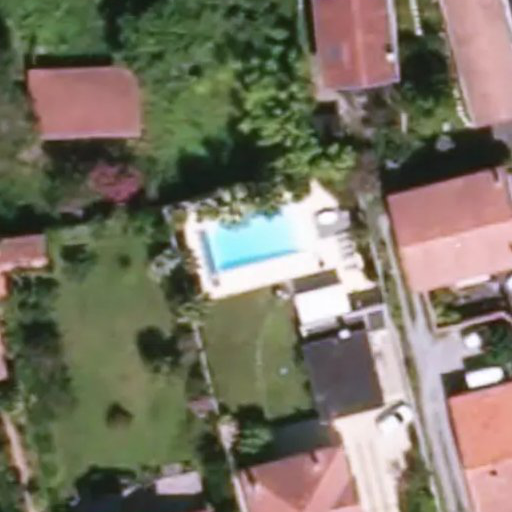pool: (205, 231, 306, 252)
